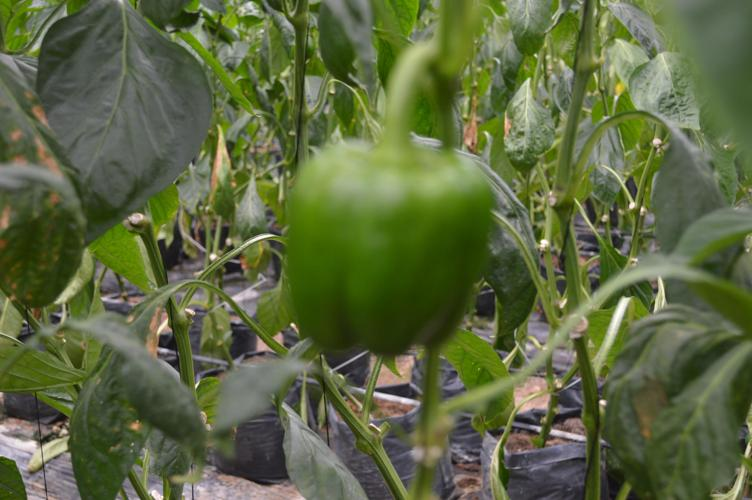BellPepper: (271, 138, 498, 357)
